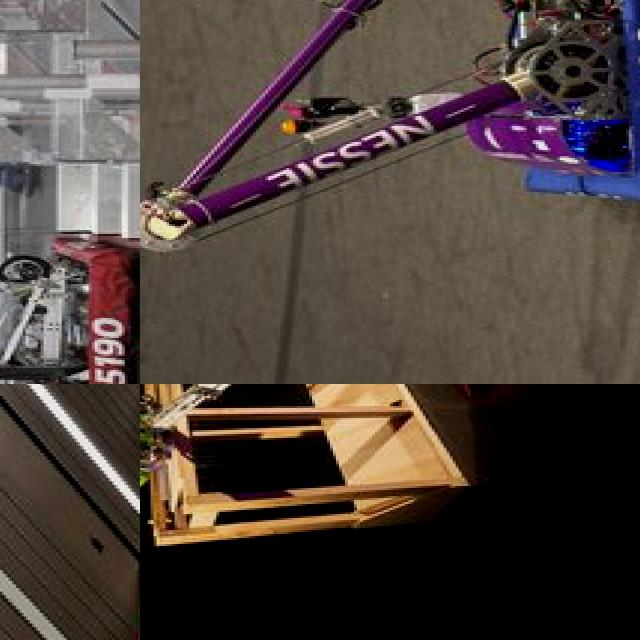FRC-Robots: (140, 0, 640, 249), (140, 384, 640, 502), (0, 384, 140, 640), (0, 233, 140, 384)
